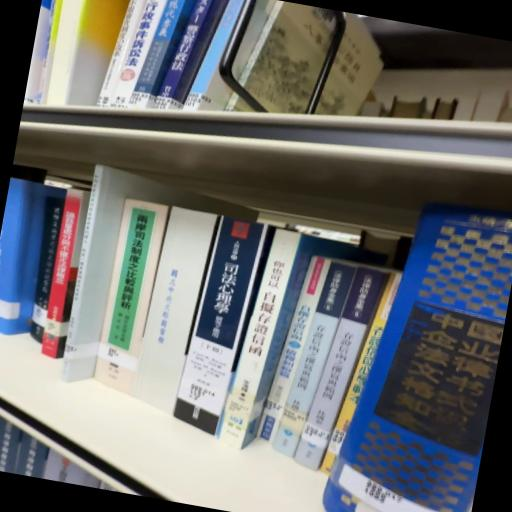backward: (132, 207, 221, 416)
book: (171, 219, 269, 445), (291, 258, 386, 474)
